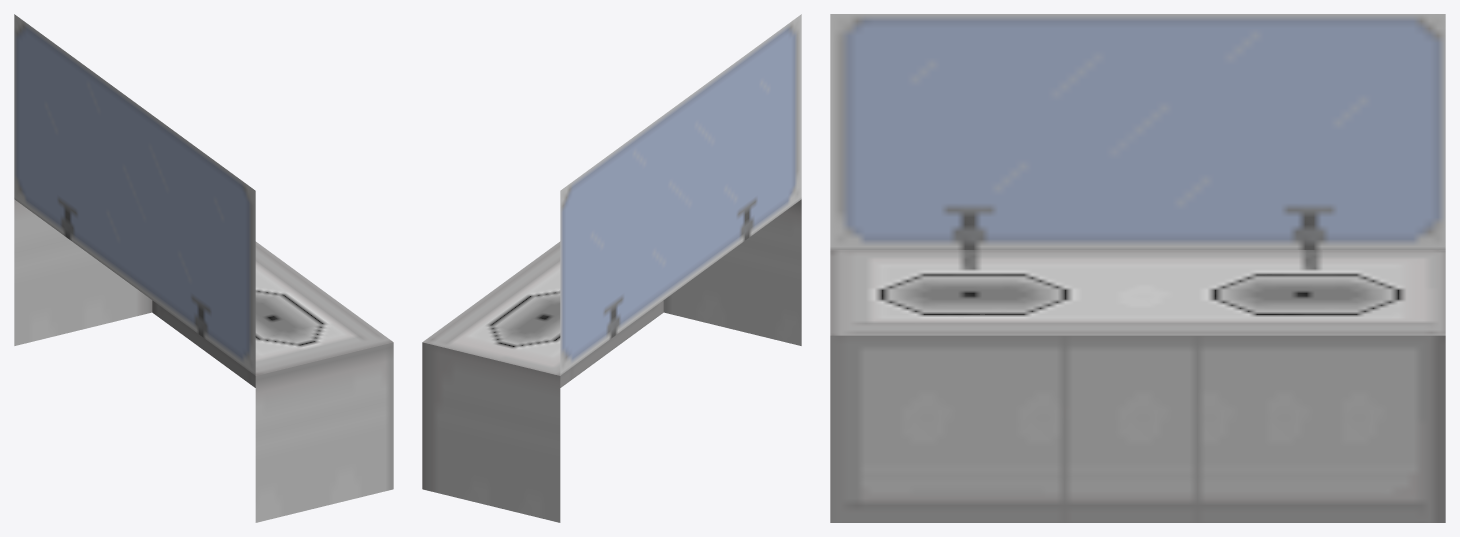
The model's file is BLOCKYGON_SINK.fbx.
3 views of the same model, side by side, from view 1: azimuth 30°, elevation 25°; view 2: azimuth 150°, elevation 25°; view 3: azimuth 270°, elevation 25° (orthographic). The views are drawn at different scales.
Visible parts, largest first — view 1: BLOCKYGON_SINK; view 2: BLOCKYGON_SINK; view 3: BLOCKYGON_SINK.
Part boxes in pixels (bbox=[...]): BLOCKYGON_SINK: bbox=[14, 14, 393, 522]; BLOCKYGON_SINK: bbox=[422, 14, 801, 522]; BLOCKYGON_SINK: bbox=[830, 14, 1445, 522].
Size of the model in its own units: 97.11 by 224 by 294.
